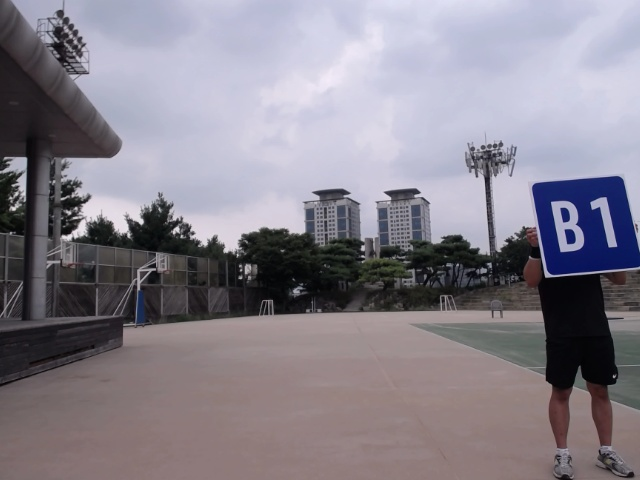delivery_b1: (529, 174, 640, 276)
